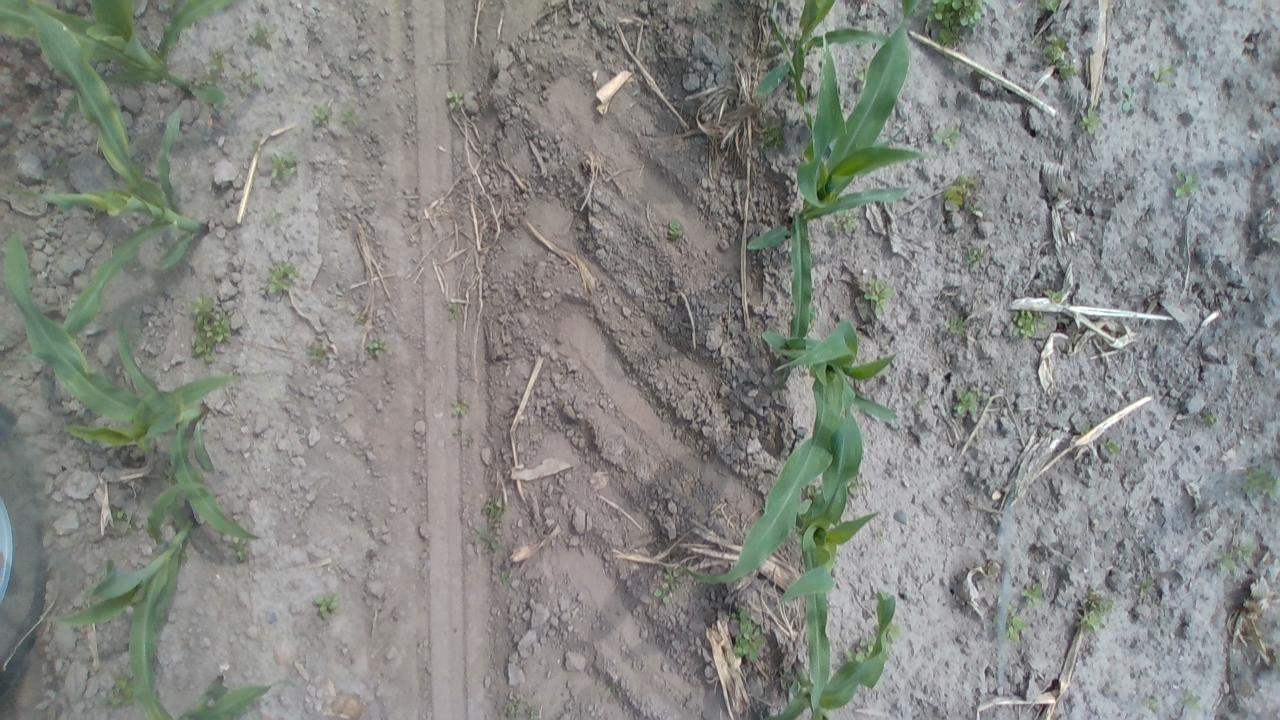Maize: (0, 223, 263, 560), (684, 207, 902, 580), (16, 8, 212, 368), (743, 15, 918, 255), (47, 517, 203, 720), (1, 0, 232, 117), (777, 557, 903, 720), (779, 388, 866, 608), (748, 0, 902, 101), (148, 676, 283, 720)
Weeds: (182, 286, 234, 368), (917, 0, 987, 51), (940, 174, 984, 221), (734, 607, 768, 665), (654, 556, 687, 610), (1042, 34, 1079, 81), (1238, 463, 1280, 502), (1080, 587, 1116, 632), (862, 276, 893, 326), (264, 256, 299, 300), (100, 673, 142, 709), (1216, 539, 1258, 575), (1004, 310, 1050, 342), (992, 603, 1028, 643), (268, 146, 302, 187), (500, 692, 548, 720), (478, 487, 512, 523), (468, 520, 502, 555), (1017, 578, 1049, 614), (246, 16, 277, 51), (950, 386, 981, 418), (1148, 64, 1182, 93), (313, 590, 342, 623), (1170, 167, 1200, 198), (302, 336, 334, 364), (828, 210, 860, 238), (961, 243, 993, 271), (1040, 284, 1072, 312), (845, 634, 877, 662), (236, 67, 264, 98), (336, 97, 362, 130), (930, 127, 963, 152), (113, 506, 142, 534), (1076, 105, 1104, 134), (204, 48, 232, 76), (662, 213, 686, 244), (308, 97, 330, 130), (884, 618, 906, 651), (1118, 84, 1139, 118), (940, 316, 974, 337), (226, 536, 251, 564), (441, 295, 464, 324), (365, 330, 387, 360), (446, 396, 472, 421), (492, 562, 512, 593), (1132, 576, 1156, 601), (442, 87, 468, 110), (1036, 0, 1064, 18), (844, 471, 861, 500), (1097, 436, 1121, 456), (1180, 694, 1204, 713), (266, 206, 286, 226), (1202, 413, 1222, 432), (1144, 696, 1164, 712), (1269, 648, 1280, 673), (852, 66, 866, 84), (1078, 423, 1092, 440)
